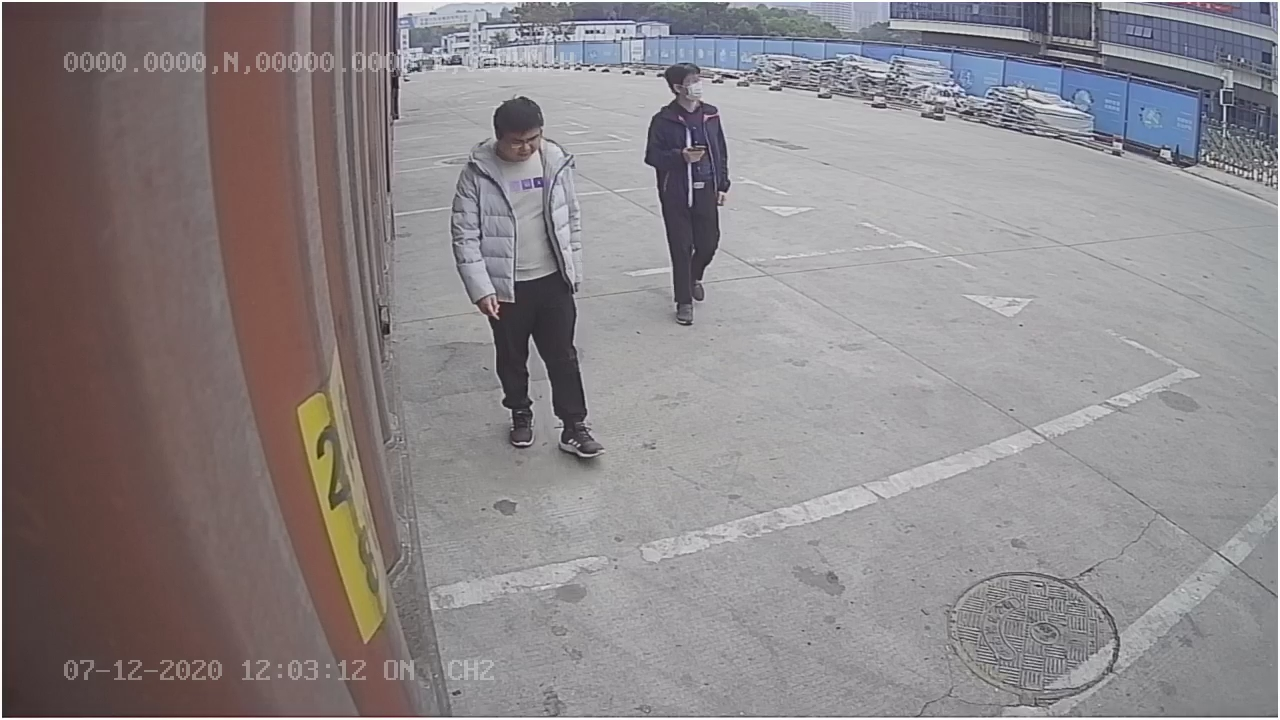person: (449, 91, 609, 467), (642, 58, 732, 331)
